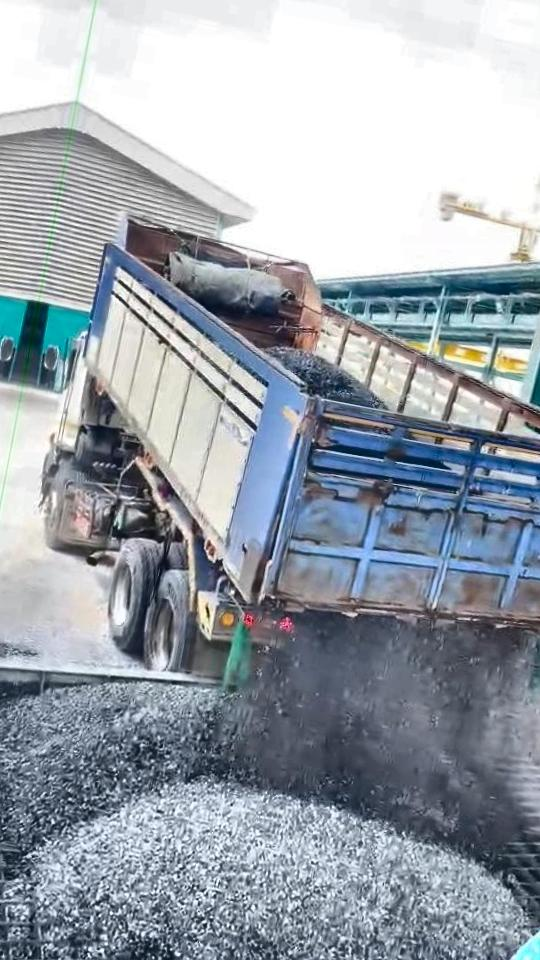gravel: (30, 779, 527, 960), (179, 614, 529, 869), (0, 682, 227, 854), (267, 347, 387, 409), (0, 630, 37, 658)
